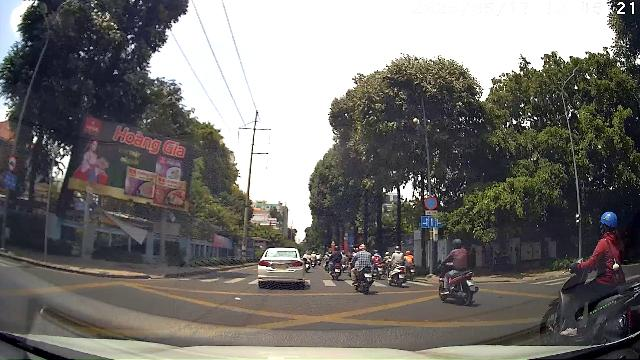131a-cam-do-xe: (424, 196, 438, 210)
